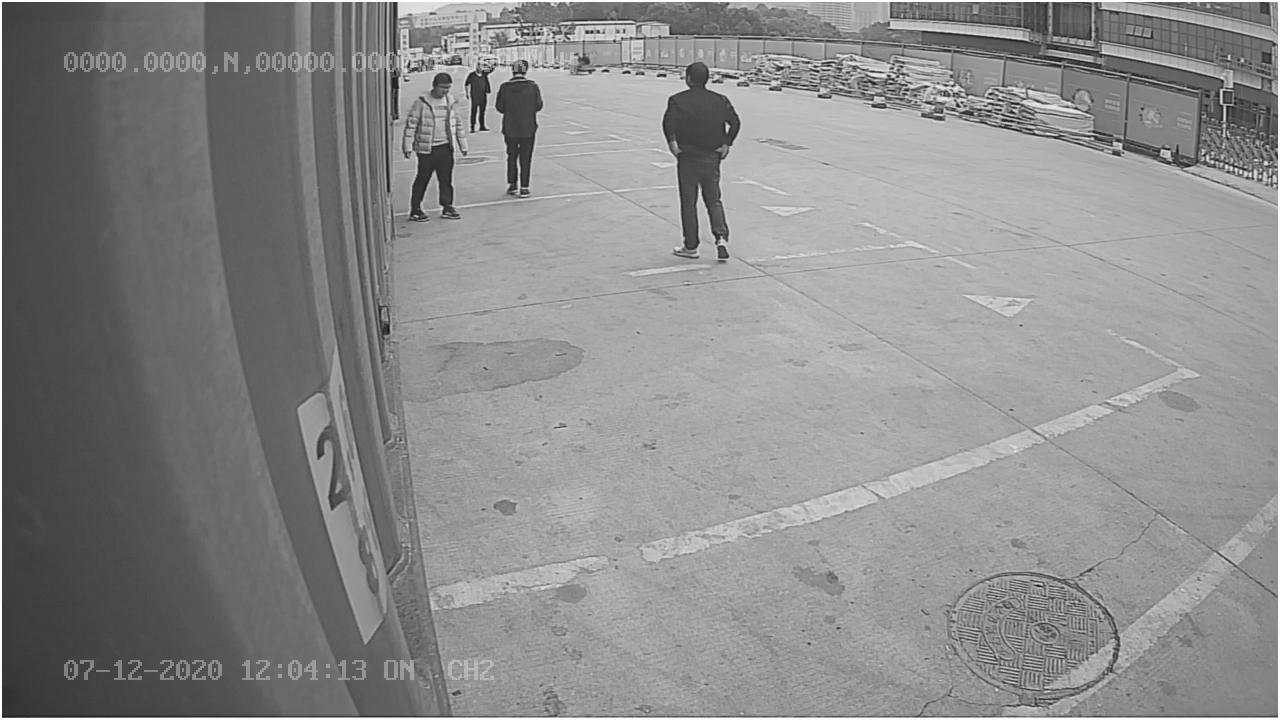person: (652, 58, 743, 262)
